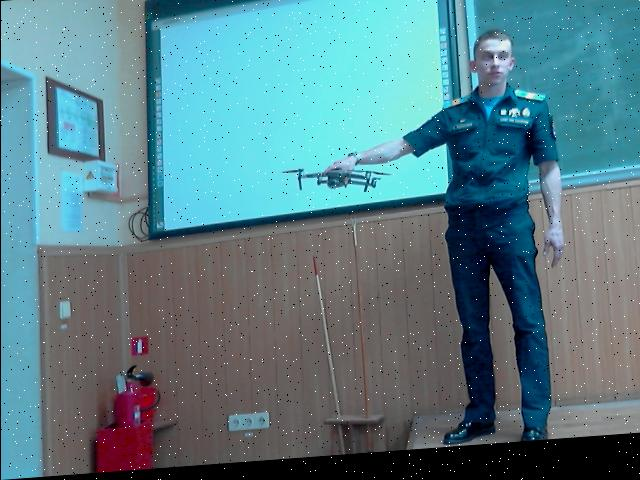drone: (280, 155, 392, 214)
